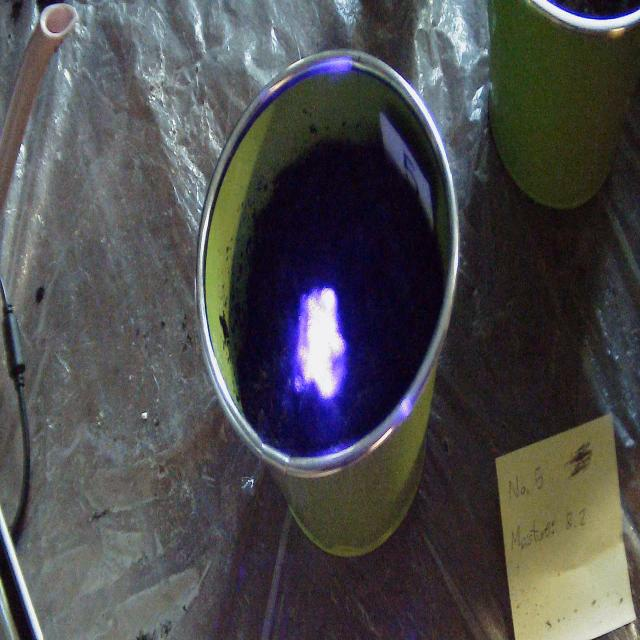soil-moisture-8.2: (294, 284, 347, 403)
